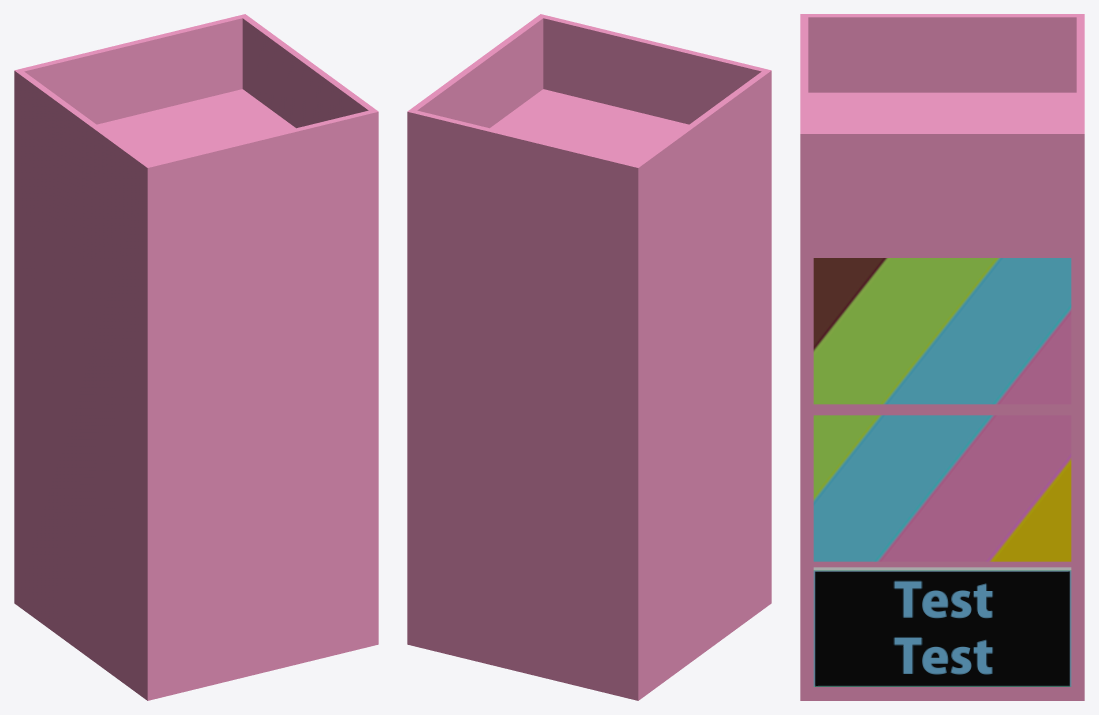
Rendered from Town_Bld-Med_ADSTowerE.FBX.
3 renders of one model, left to right at view 1: azimuth 30°, elevation 25°; view 2: azimuth 150°, elevation 25°; view 3: azimuth 270°, elevation 25°, orthographic. The views are drawn at different scales.
Visible parts, largest first — view 1: Town_Bld-Med_ADSTowerE; view 2: Town_Bld-Med_ADSTowerE; view 3: Town_Bld-Med_ADSTowerE.
Boxes of the visible parts, x1,y1,x2,y2 form: Town_Bld-Med_ADSTowerE: [14, 14, 378, 700]; Town_Bld-Med_ADSTowerE: [407, 14, 771, 700]; Town_Bld-Med_ADSTowerE: [800, 14, 1084, 700].
Size of the model in its own units: 615 by 1322 by 600.
